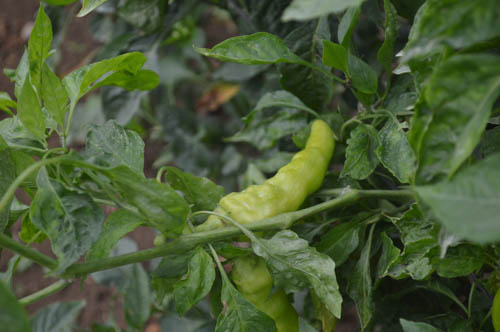ChiliPepper: (225, 122, 343, 244), (235, 260, 296, 330)
